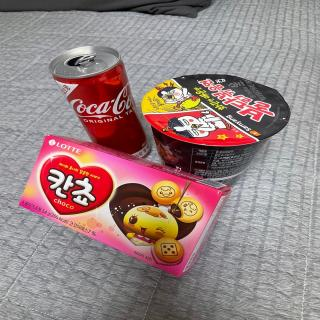cocacola: (43, 36, 165, 165)
